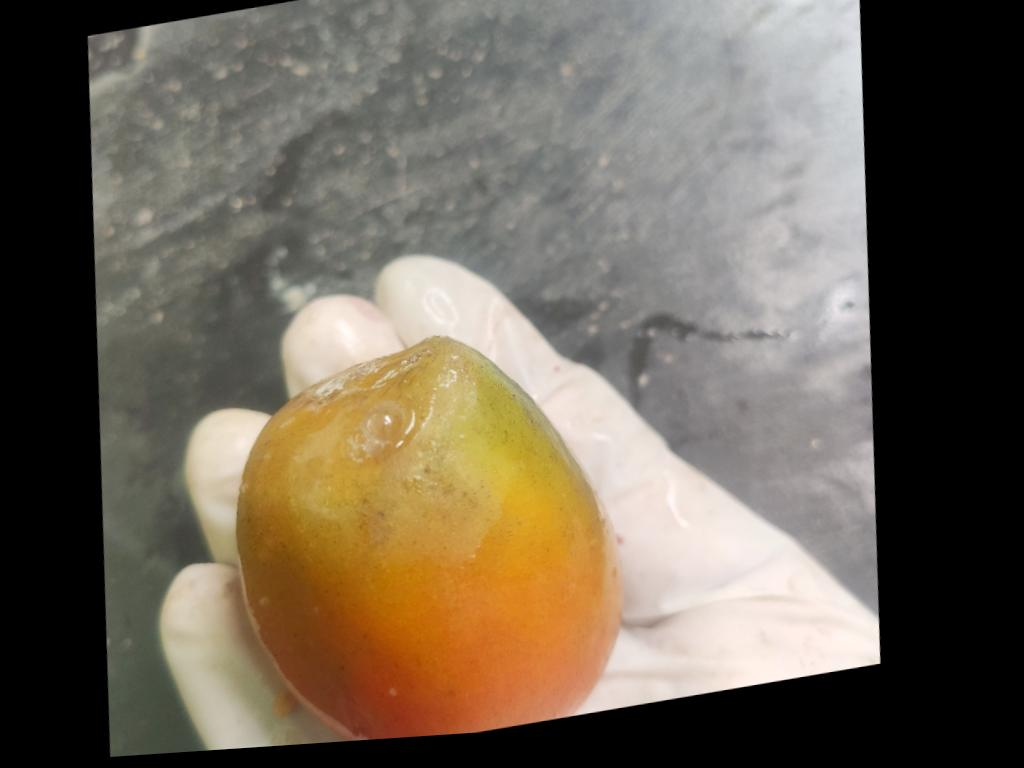bruise_discoloration: (237, 337, 597, 592)
tomato: (236, 337, 620, 741)
